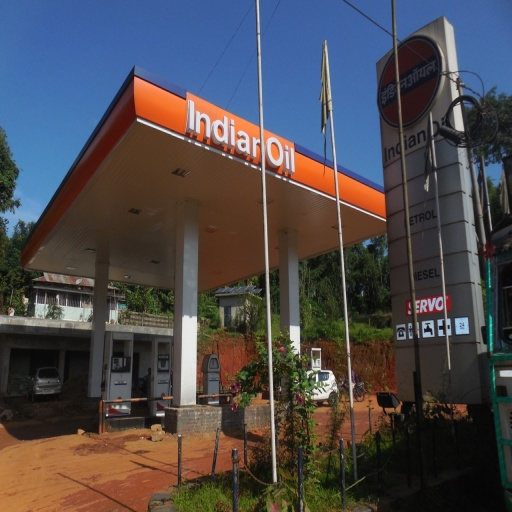roof: (19, 66, 392, 303)
